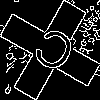C: (25, 25, 79, 83)
